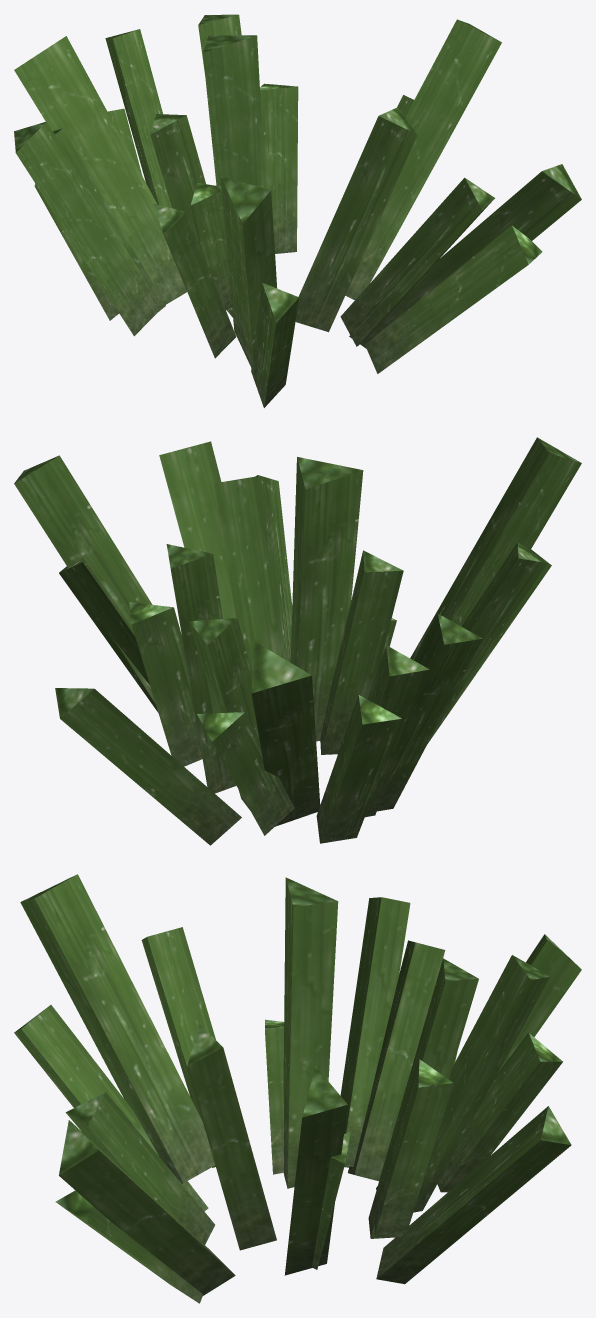
The model's file is Crystal3_LOD1.fbx.
3 views of the same model, one above another, from view 1: azimuth 30°, elevation 25°; view 2: azimuth 150°, elevation 25°; view 3: azimuth 270°, elevation 25° (orthographic). The views are drawn at different scales.
Visible parts, largest first — view 1: polySurface85; view 2: polySurface85; view 3: polySurface85.
Part boxes in pixels (left/top/right/bottom): polySurface85: left=14, top=14, right=581, bottom=407; polySurface85: left=14, top=437, right=581, bottom=845; polySurface85: left=14, top=874, right=581, bottom=1303.
Size of the model in its own units: 1.28 by 0.8872 by 1.26.
